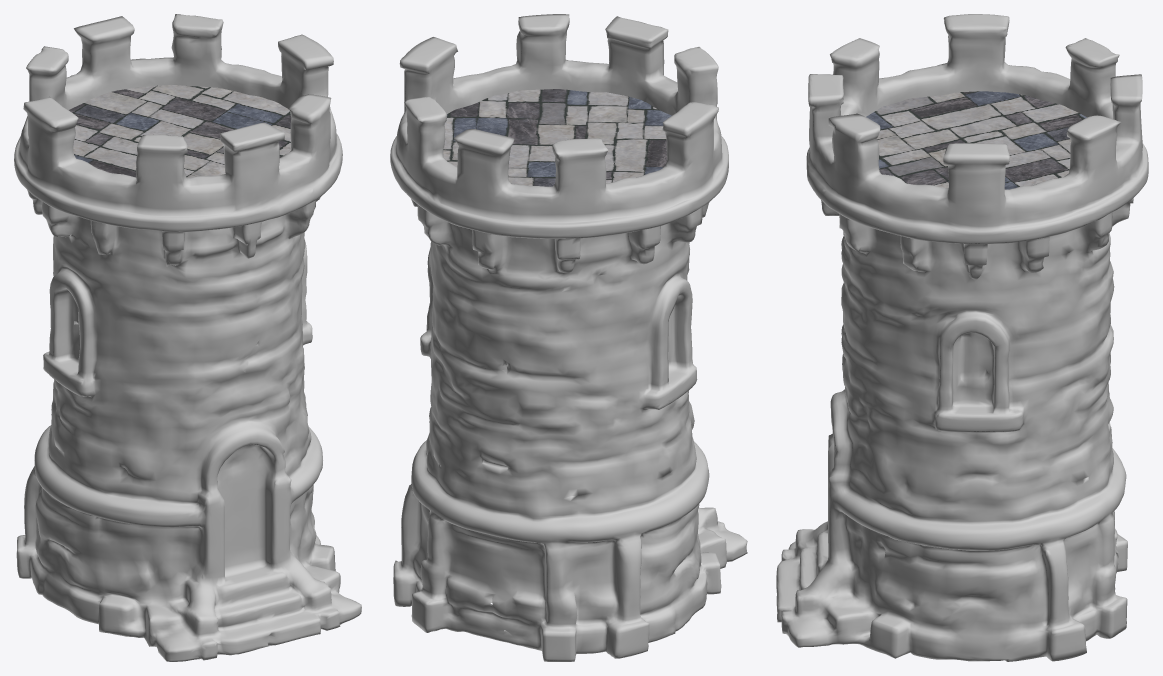
File: castle_top_with_roof.fbx
The picture shows the model from 3 angles, left to right: view 1: azimuth 30°, elevation 25°; view 2: azimuth 150°, elevation 25°; view 3: azimuth 270°, elevation 25°; orthographic projection. The views are drawn at different scales.
Visible parts, largest first — view 1: input, Castle Top; view 2: input, Castle Top; view 3: input, Castle Top.
Part boxes in pixels (left/top/right/bottom): input: left=14, top=14, right=361, bottom=661; Castle Top: left=69, top=85, right=291, bottom=177; input: left=390, top=14, right=747, bottom=661; Castle Top: left=443, top=89, right=671, bottom=186; input: left=776, top=14, right=1148, bottom=661; Castle Top: left=866, top=91, right=1086, bottom=189.
Bounding box in the file's own units: 121 × 200 × 131.
